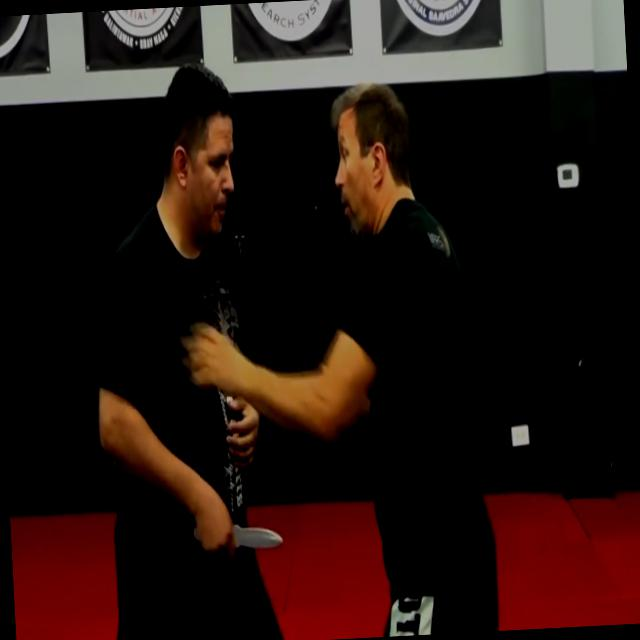knife: (186, 500, 292, 563)
